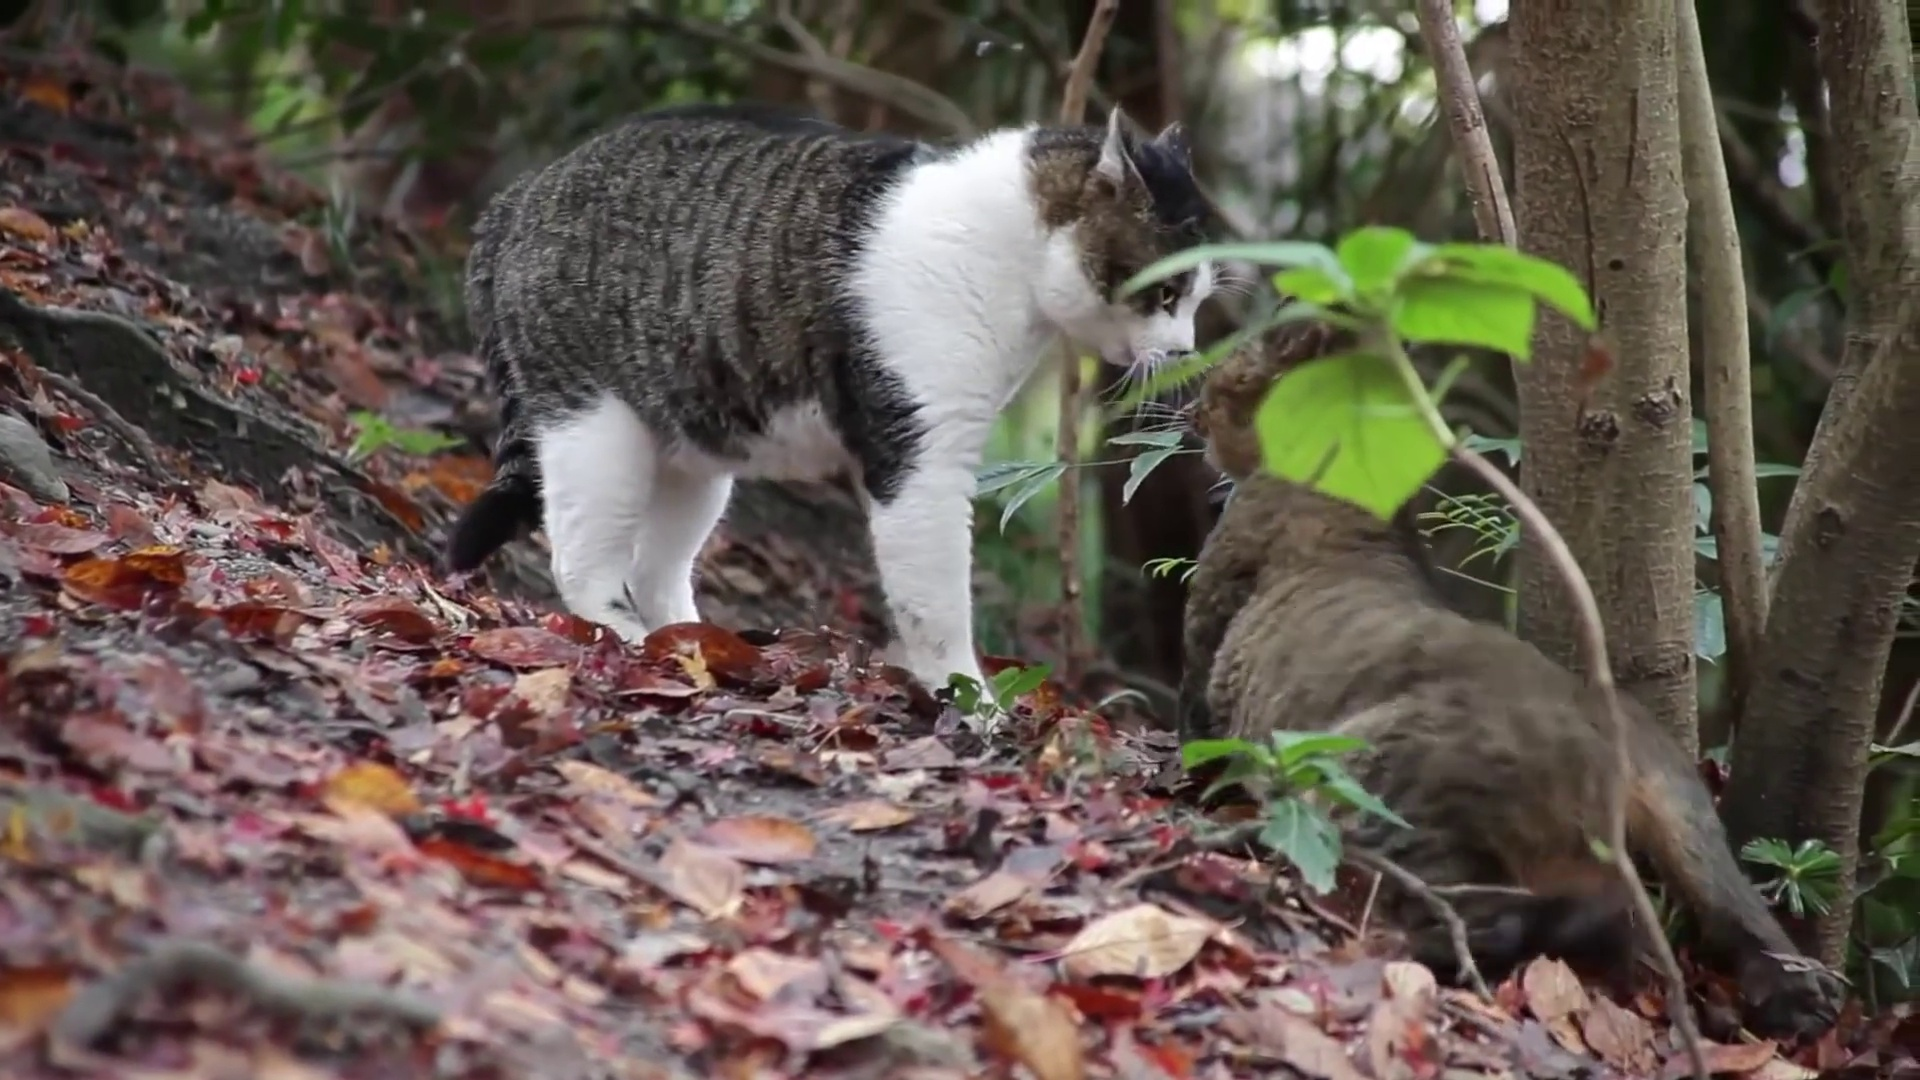black-white: (448, 102, 1216, 716)
pure black: (1182, 306, 1636, 876)
